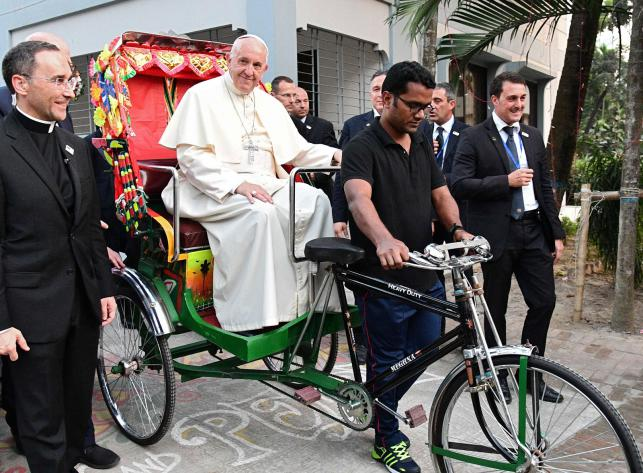Rickshaw: (93, 29, 640, 471)
